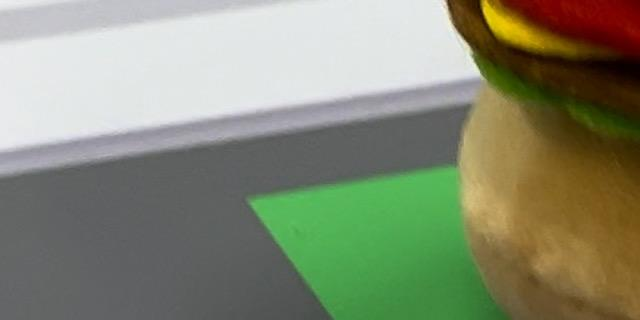burger: (403, 0, 640, 320)
